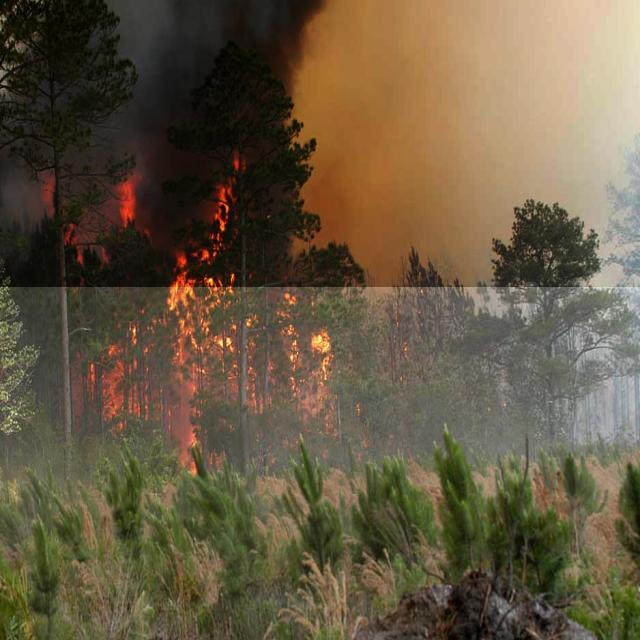Smoke: (0, 0, 640, 287)
